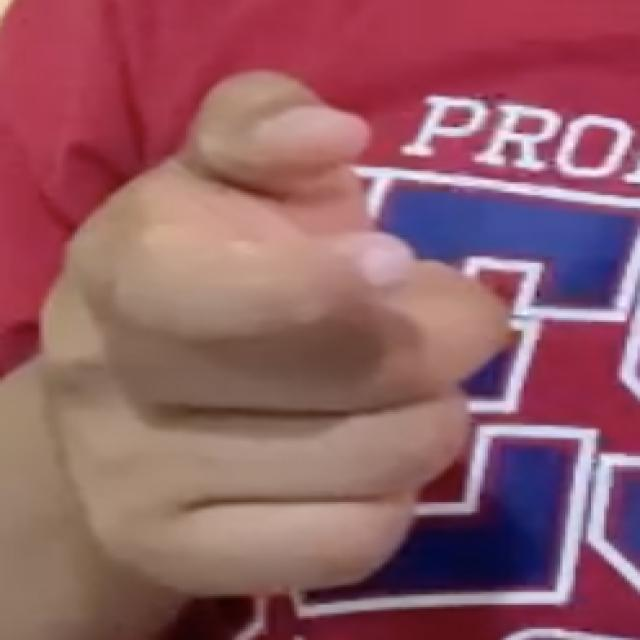Q: (25, 58, 548, 602)
